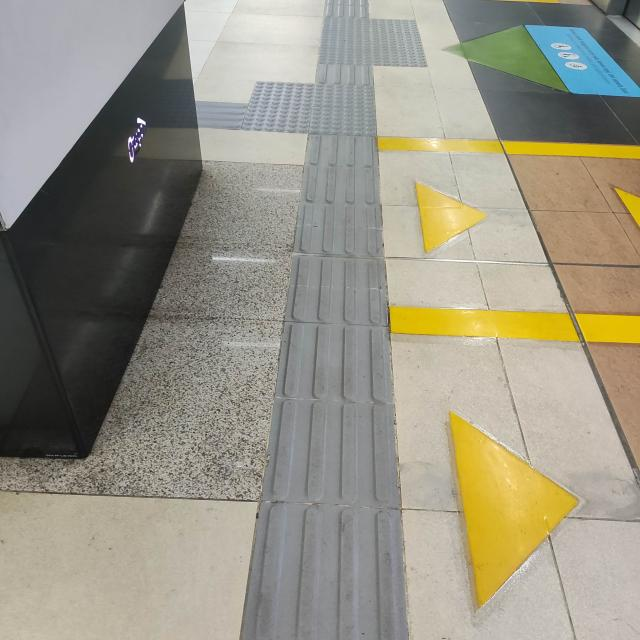lurus: (267, 133, 398, 640)
